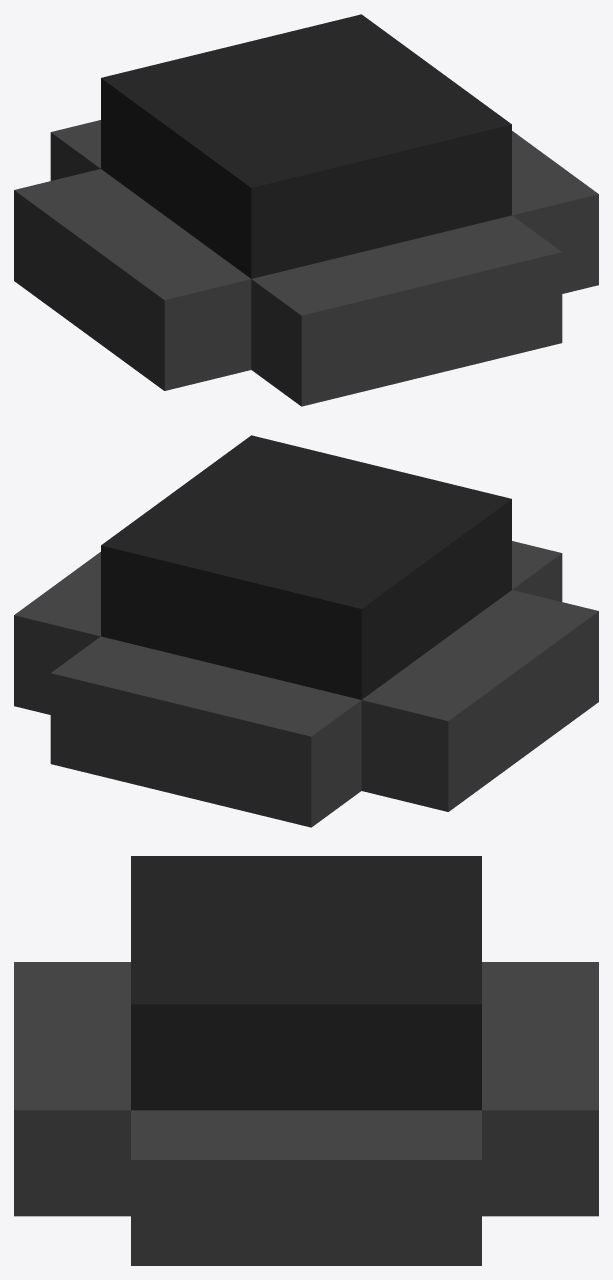
File: Magnite.obj
The picture shows the model from 3 angles, top to bottom: view 1: azimuth 30°, elevation 25°; view 2: azimuth 150°, elevation 25°; view 3: azimuth 270°, elevation 25°; orthographic projection. The views are drawn at different scales.
Size of the model in its own units: 0.5 by 0.2 by 0.5.
Materials: 1 (1 with a texture image).
